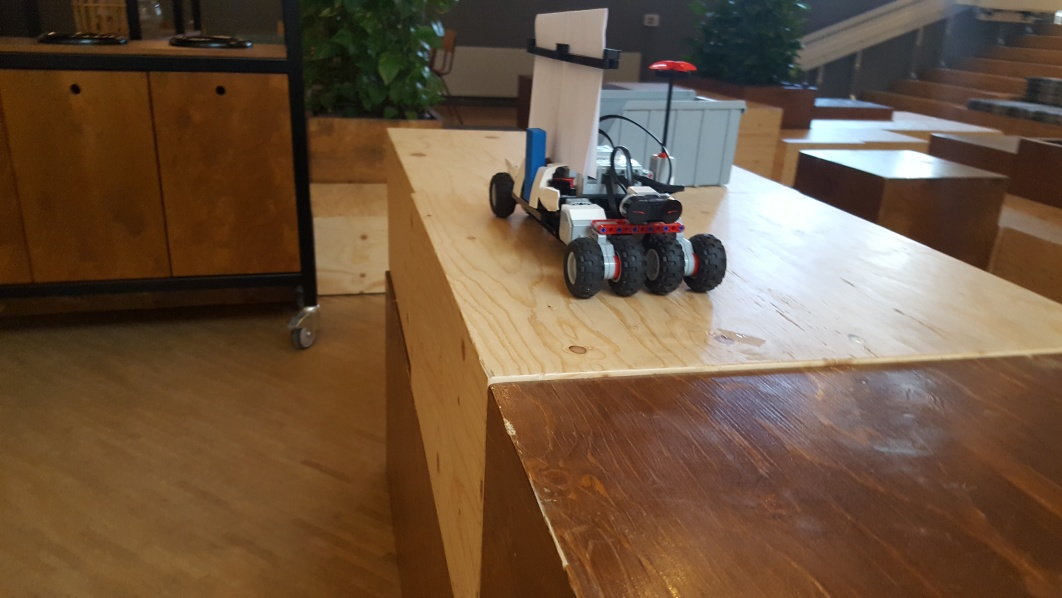car: (486, 1, 733, 299)
